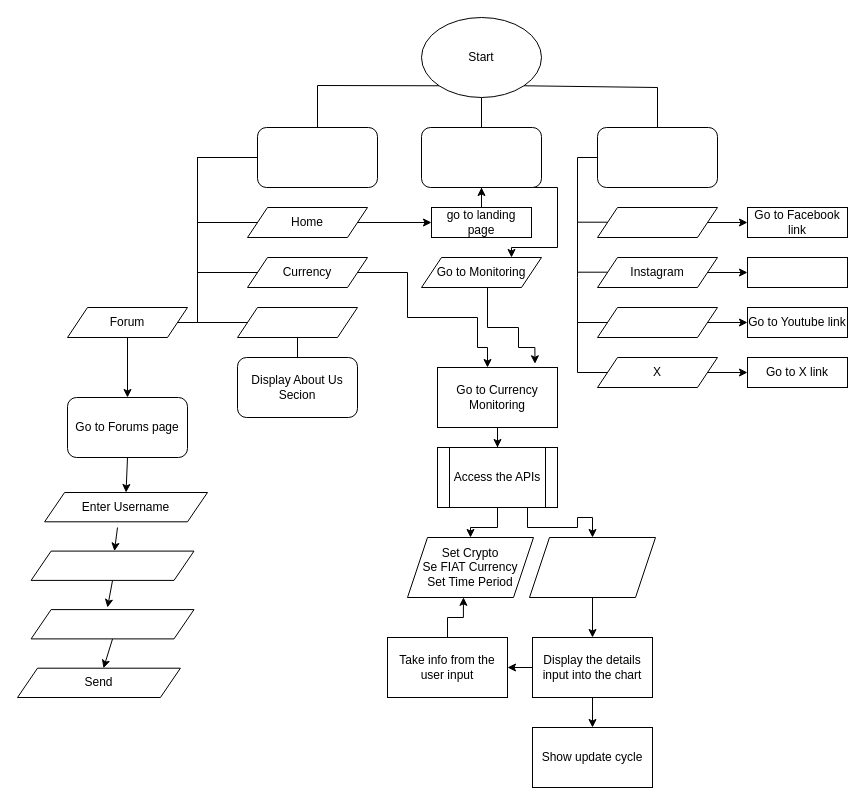
Image size: 865x805. Some labels were removed from this diagram. The centre of each missing label's shape, as x and y in pixels:
"Abou Us" belongs at pixel 297 322.
"Facebook" belongs at pixel 657 222.
"Footer" belongs at pixel 657 157.
"Go to Instagram link" belongs at pixel 797 272.
"Header" belongs at pixel 317 157.
"Join Chat" belongs at pixel 112 624.
"Landing page" belongs at pixel 481 157.
"Search" belongs at pixel 592 567.
"Type Message" belongs at pixel 112 565.
"Youtube" belongs at pixel 657 322.
